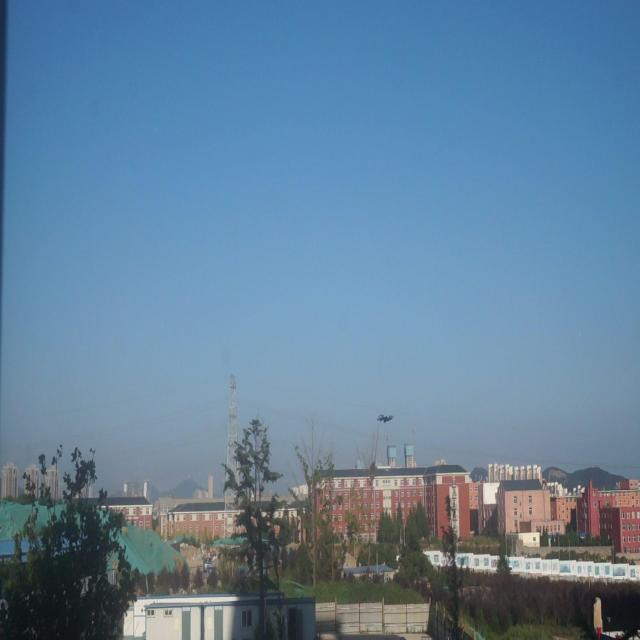UAV: (377, 414, 394, 422)
